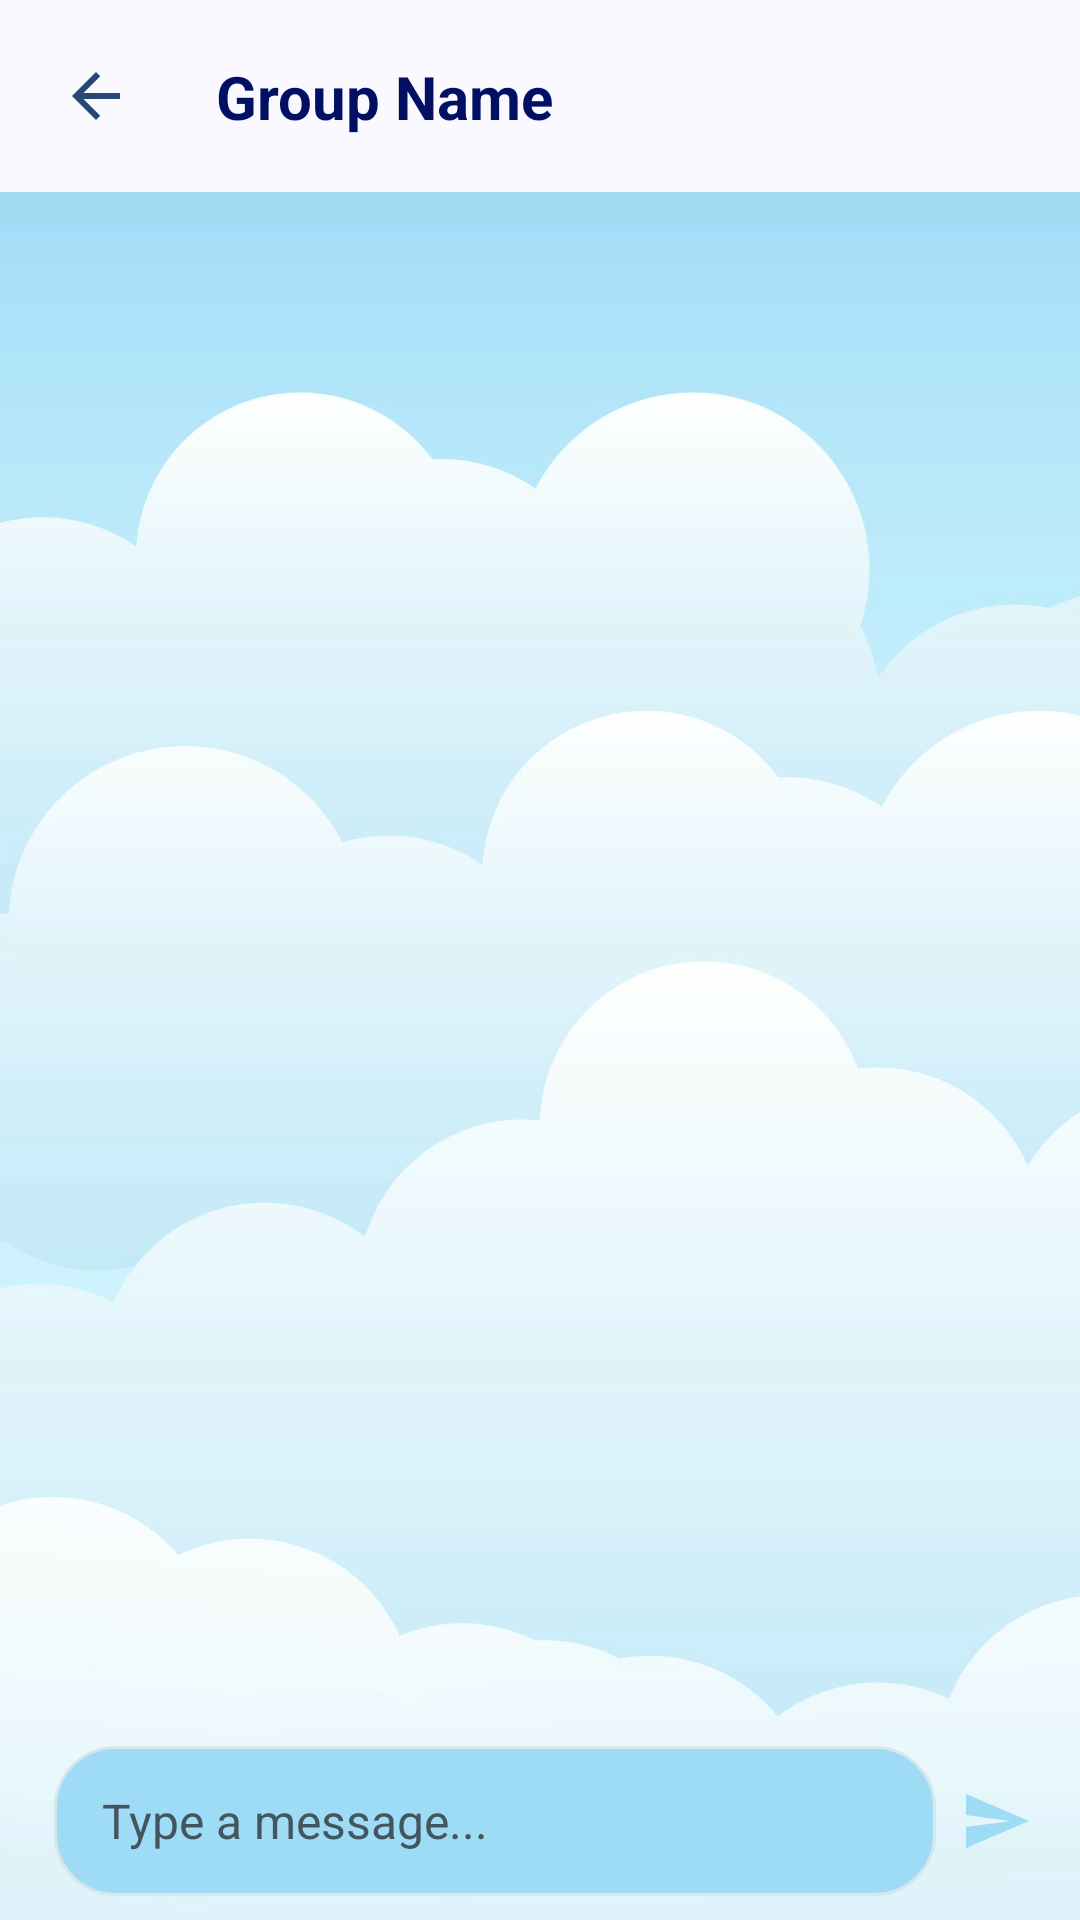

Icons on this 1080w x 1920h Android screen, each with the point to tap as [x,y]:
Send message: [997,1821]
